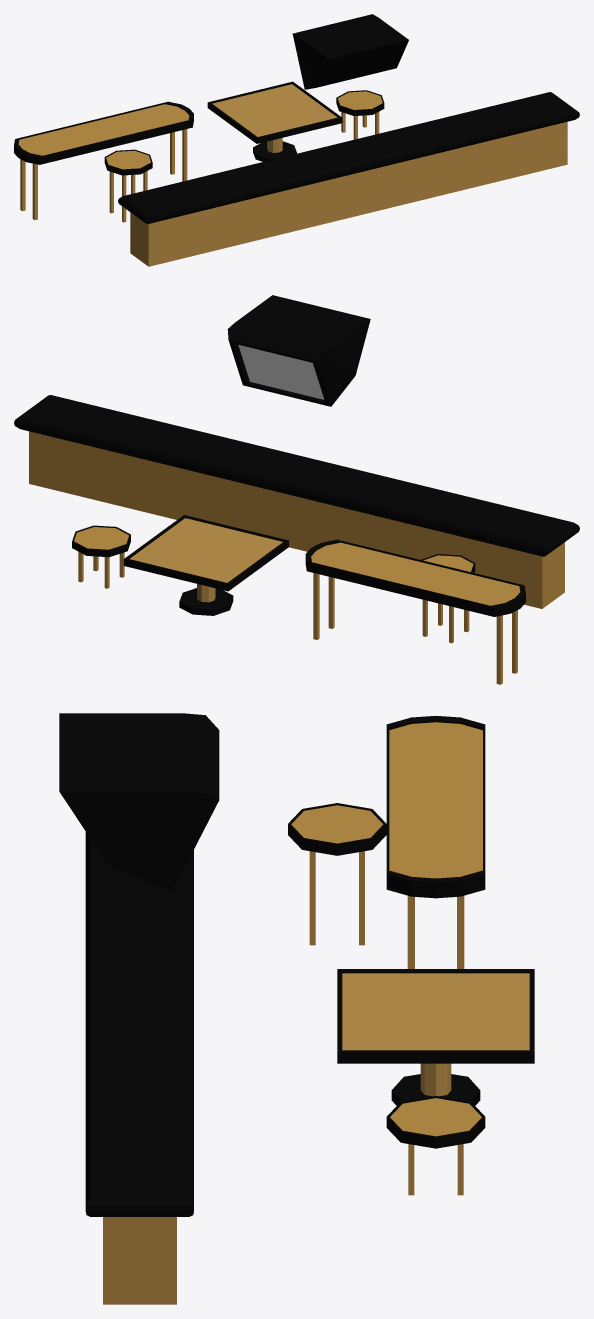
Rendered from Restaurant.fbx.
3 renders of one model, top to bottom at view 1: azimuth 30°, elevation 25°; view 2: azimuth 150°, elevation 25°; view 3: azimuth 270°, elevation 25°, orthographic. The views are drawn at different scales.
Visible parts, largest first — view 1: Counter, Counter Table, Counter Menu, Square Table, Tall Chair, Chair; view 2: Counter, Counter Menu, Counter Table, Square Table, Chair, Tall Chair; view 3: Counter, Counter Menu, Square Table, Counter Table, Tall Chair, Chair.
Part boxes in pixels (x1,y1,x2,y2): Counter: [118, 92, 579, 266]; Counter Table: [14, 101, 193, 220]; Counter Menu: [292, 14, 408, 89]; Square Table: [207, 81, 342, 161]; Tall Chair: [104, 149, 152, 222]; Chair: [336, 90, 384, 139]; Counter: [14, 395, 579, 608]; Counter Menu: [227, 295, 370, 406]; Counter Table: [305, 539, 525, 684]; Square Table: [123, 515, 288, 615]; Chair: [72, 525, 130, 588]; Tall Chair: [421, 554, 475, 643]; Counter: [85, 832, 193, 1304]; Counter Menu: [59, 713, 219, 891]; Square Table: [337, 969, 534, 1105]; Counter Table: [386, 716, 485, 968]; Tall Chair: [288, 803, 386, 945]; Chair: [386, 1096, 485, 1195].
Size of the model in its own units: 2217 by 778 by 963.
